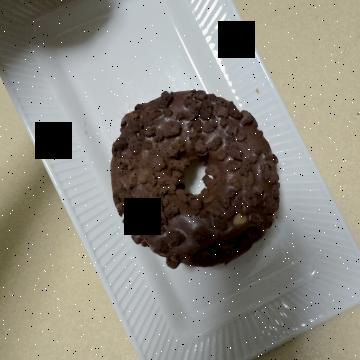doughnut: (80, 78, 274, 268)
